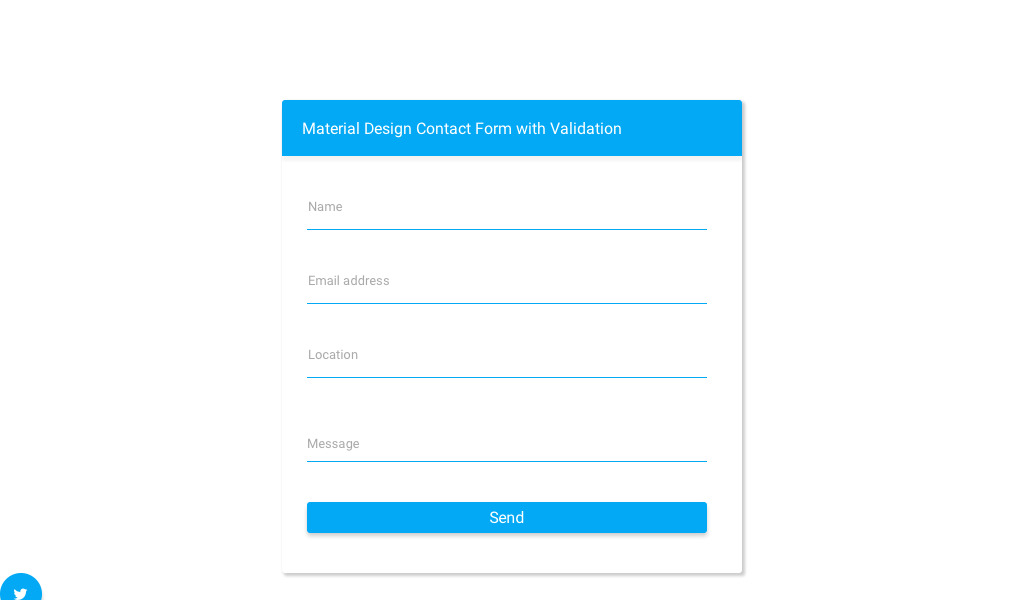button: (304, 499, 709, 537)
field_line: (301, 187, 707, 234), (303, 341, 711, 383), (300, 425, 709, 465), (302, 268, 708, 308)
